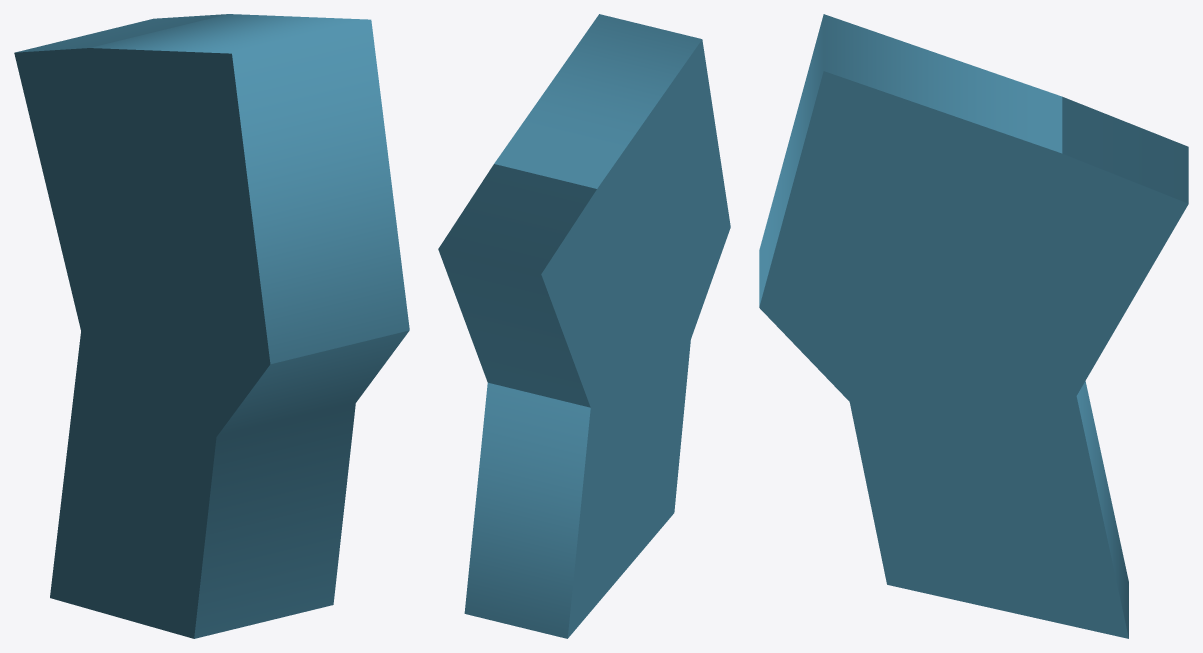
Rendered from NexusC_Trigger_14.fbx.
3 views of the same model, side by side, from view 1: azimuth 30°, elevation 25°; view 2: azimuth 150°, elevation 25°; view 3: azimuth 270°, elevation 25° (orthographic). The views are drawn at different scales.
Visible parts, largest first — view 1: polySurface58; view 2: polySurface58; view 3: polySurface58.
Part boxes in pixels (<box>): polySurface58: <box>14,14,409,638</box>; polySurface58: <box>438,14,730,638</box>; polySurface58: <box>759,14,1188,638</box>.
Bounding box in the file's own units: 9.22 × 42.83 × 29.36.
